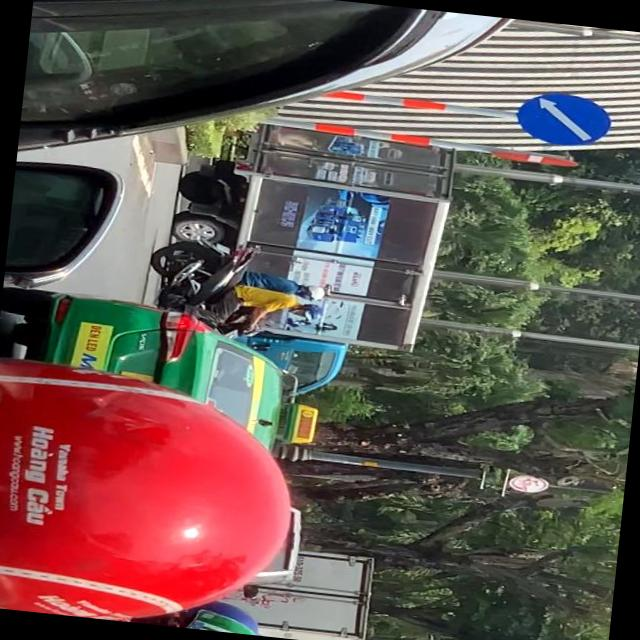R-302b: (514, 90, 613, 149)
